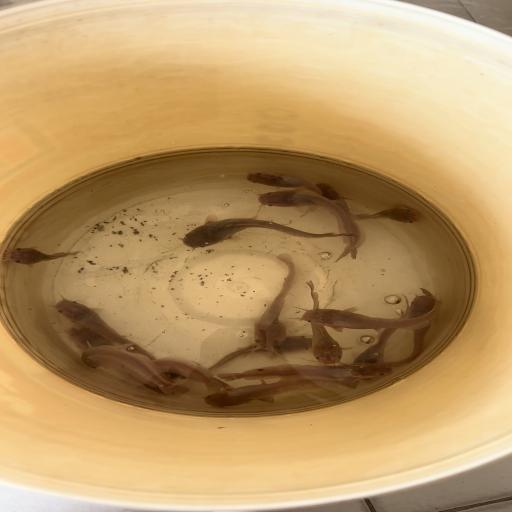lele: (258, 188, 369, 261), (51, 297, 160, 362), (182, 217, 362, 253), (296, 287, 444, 329), (76, 346, 192, 398), (248, 253, 300, 354), (204, 376, 361, 409), (350, 294, 415, 368), (206, 334, 316, 373), (382, 293, 437, 369), (301, 280, 351, 363), (314, 183, 366, 260), (214, 362, 394, 382), (243, 172, 321, 218), (141, 354, 226, 396), (3, 244, 84, 266), (64, 324, 116, 352), (351, 206, 420, 224)
